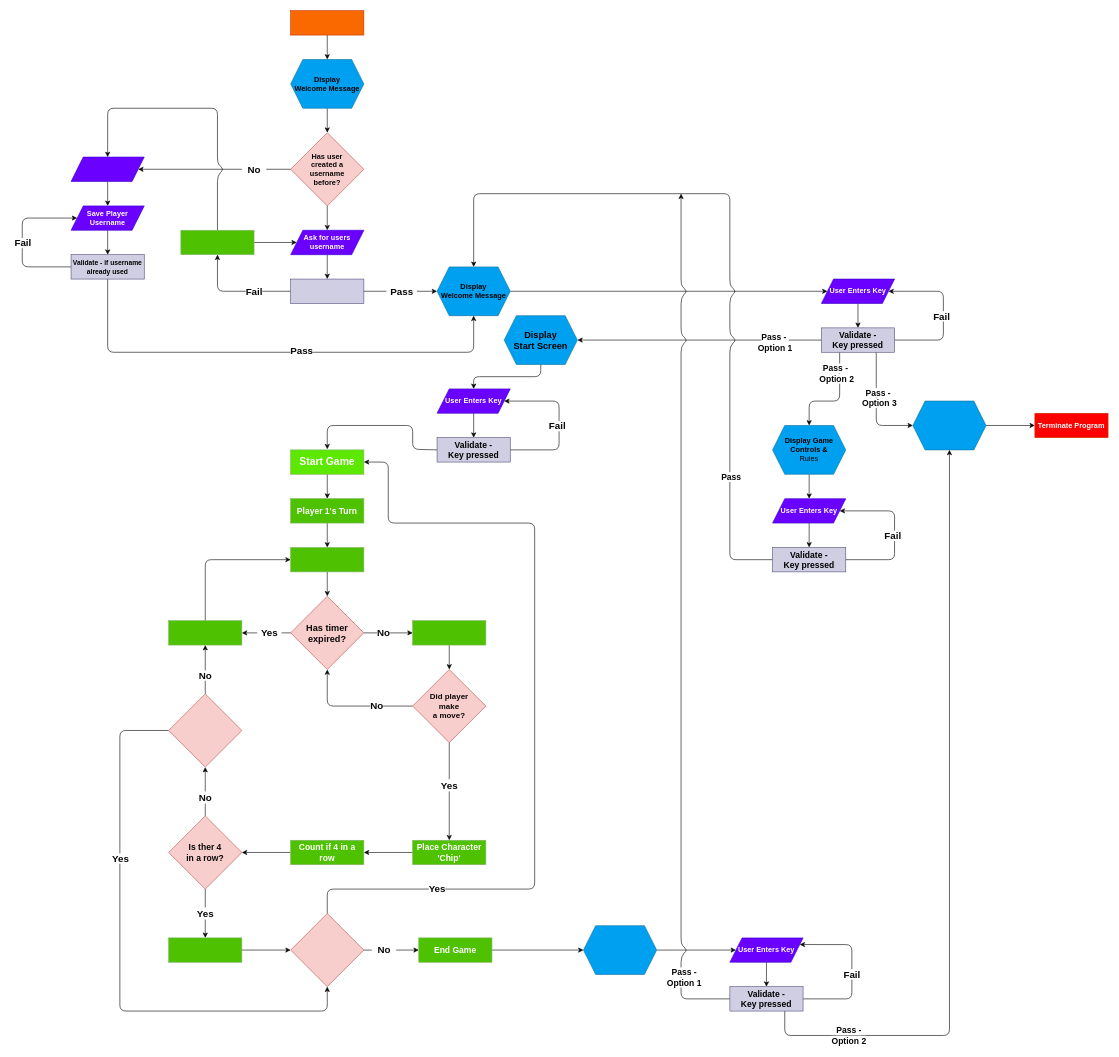
The diagram is 1119 pixels wide and 1057 high, and some of its shapes have lost their labels. The shapes that lost their labels are listed below. From the top down, each one's centre as x and y in pixels, then its label:
At point (327, 22): "Run Program".
At point (107, 168): "Create Player Username".
At point (217, 242): "Try again or create new username".
At point (327, 290): "Validate - if username in system".
At point (949, 425): "Display Exit Screen".
At point (327, 559): "Start Timer".
At point (205, 632): "Next Player's Turn".
At point (449, 632): "Timer decrements".
At point (205, 730): "Is there a tie?".
At point (205, 949): "Current Player wins".
At point (327, 950): "Play Again?".
At point (620, 949): "Display End Screen".
